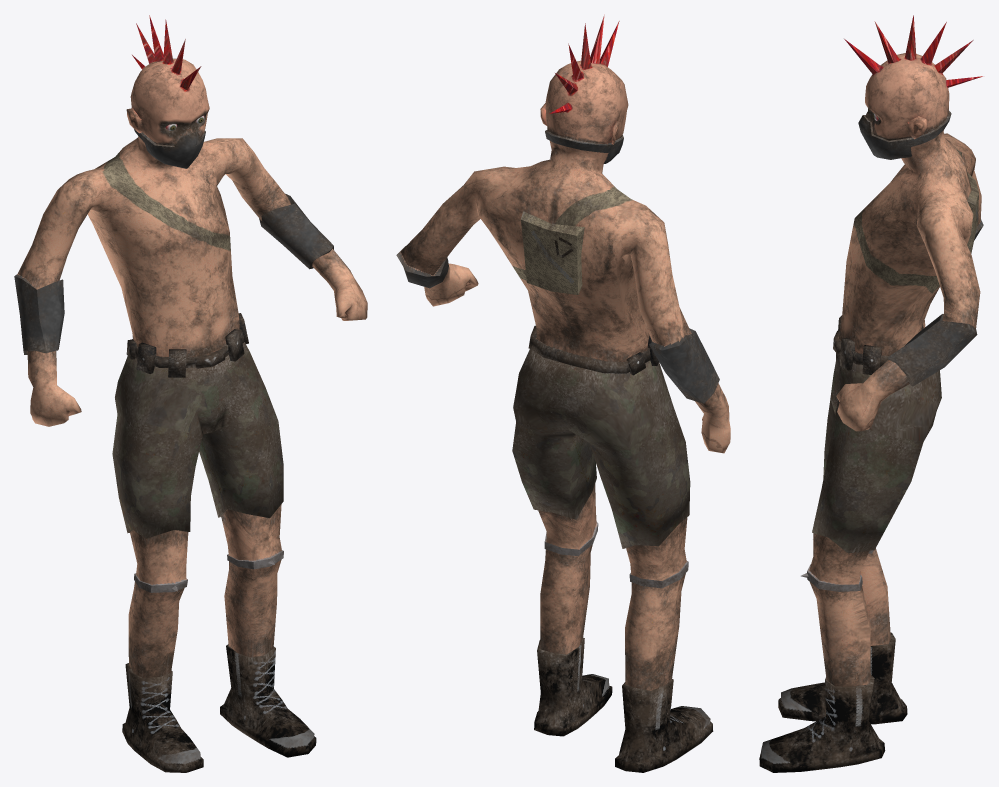
File: Anim_recibirdanyo_1_npc2.0025.obj
3 views of the same model, side by side, from view 1: azimuth 30°, elevation 25°; view 2: azimuth 150°, elevation 25°; view 3: azimuth 270°, elevation 25° (orthographic). The views are drawn at different scales.
Visible parts, largest first — view 1: polySurface1; view 2: polySurface1; view 3: polySurface1.
Part boxes in pixels (x1=…): polySurface1: x1=14, y1=15, x2=367, y2=772; polySurface1: x1=396, y1=14, x2=730, y2=772; polySurface1: x1=759, y1=15, x2=983, y2=772.
Size of the model in its own units: 4.68 by 10.01 by 2.84.
Materials: 2 (2 with a texture image).
